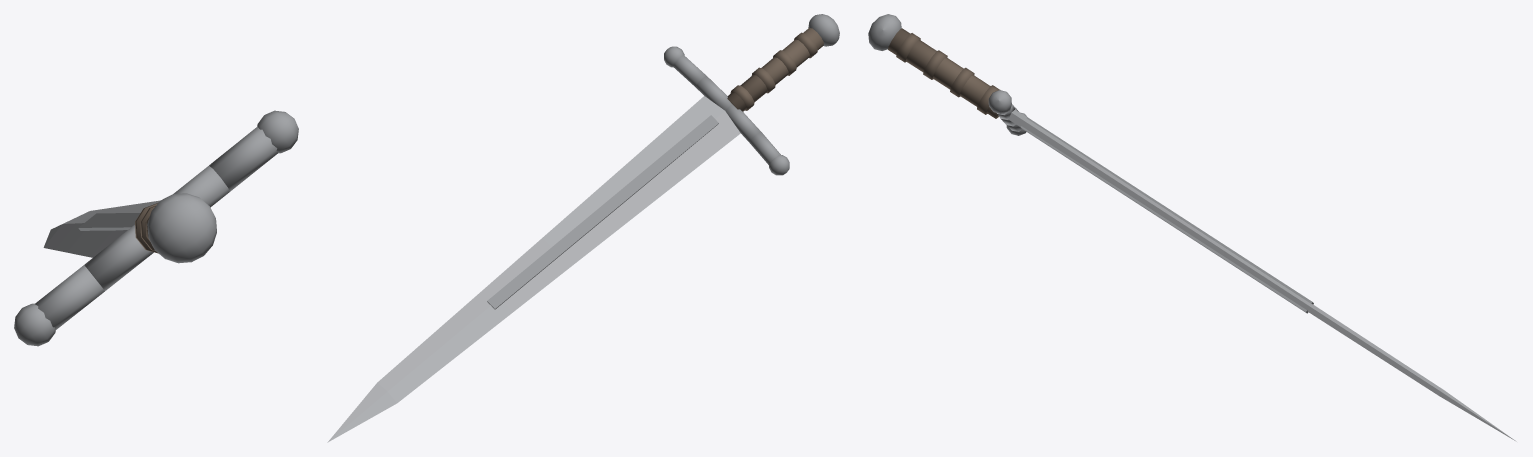
File: SwordStowed.fbx
3 renders of one model, left to right at view 1: azimuth 30°, elevation 25°; view 2: azimuth 150°, elevation 25°; view 3: azimuth 270°, elevation 25°, orthographic. The views are drawn at different scales.
Visible parts, largest first — view 1: SwordStowed; view 2: SwordStowed; view 3: SwordStowed.
Part boxes in pixels (x1=…): SwordStowed: x1=14, y1=110, x2=298, y2=346; SwordStowed: x1=327, y1=14, x2=839, y2=442; SwordStowed: x1=868, y1=14, x2=1516, y2=441.
Size of the model in its own units: 23.5 by 25.74 by 49.12.
